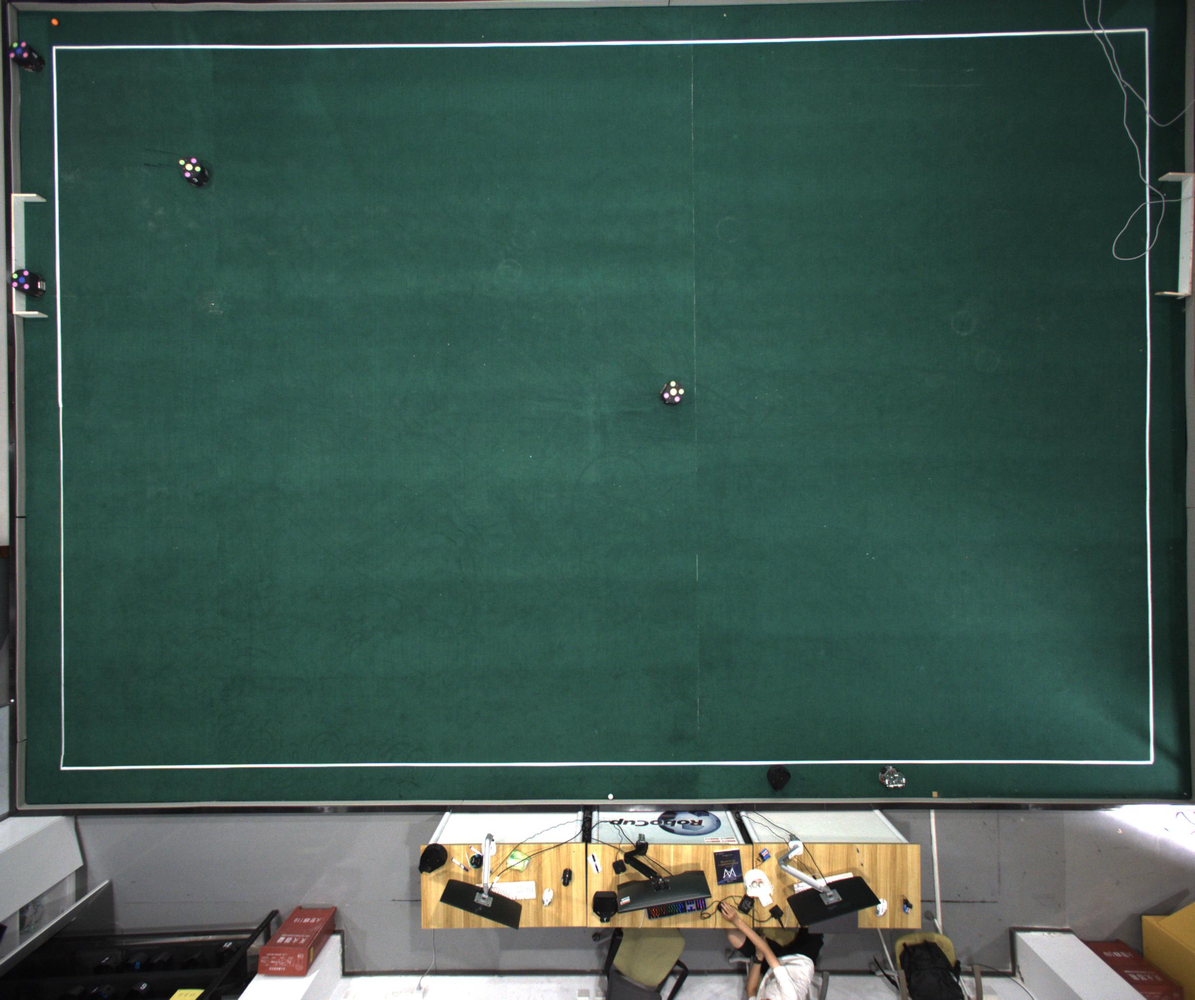ball: (52, 19, 58, 25)
blue_bot: (9, 41, 30, 61), (13, 269, 31, 291)
yellow_bot: (178, 155, 201, 180), (663, 381, 685, 403)
